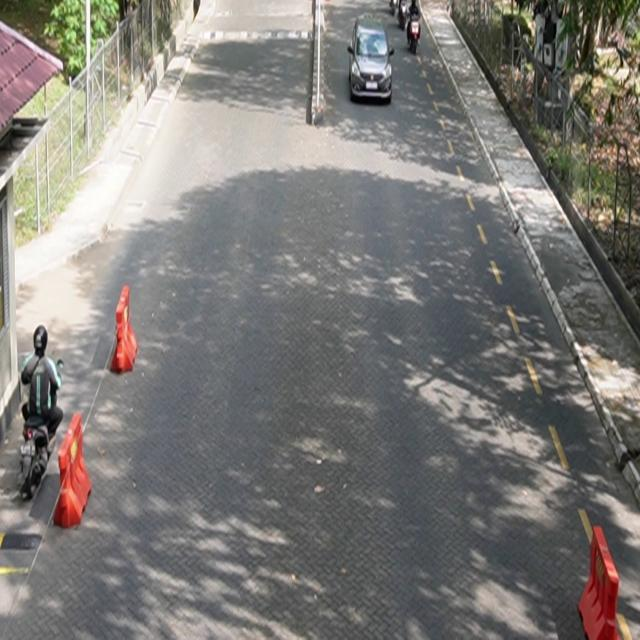car: (348, 13, 395, 105)
